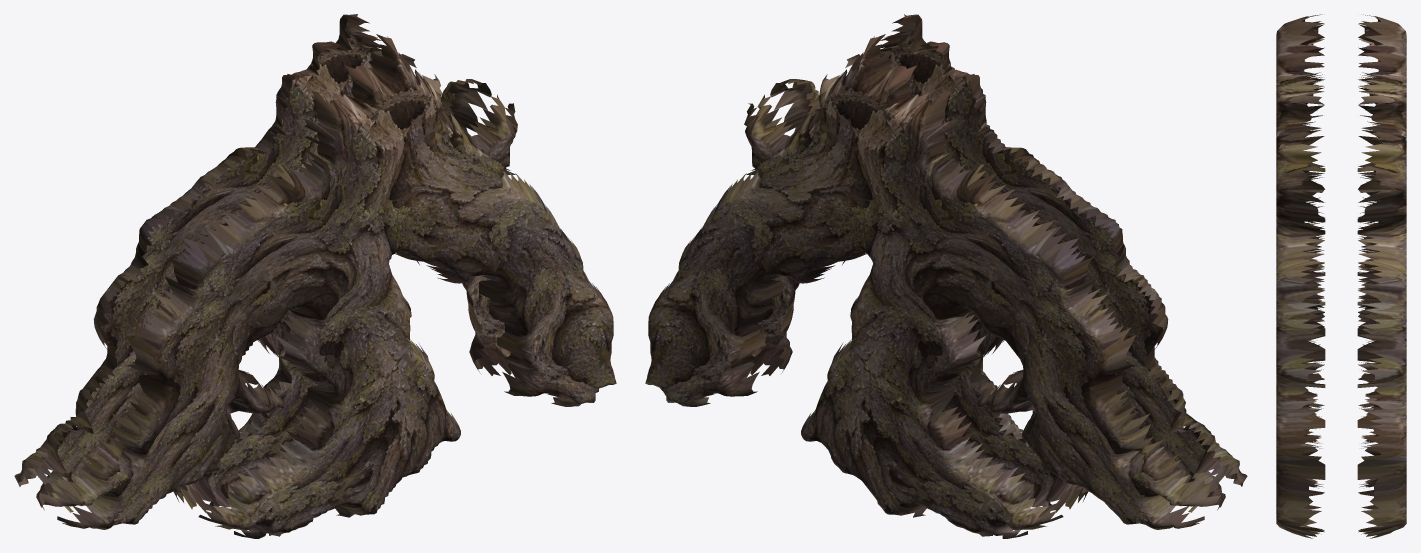
The model's file is v4-marsh-path-scatter-root-cluster.glb.
3 views of the same model, side by side, from view 1: azimuth 30°, elevation 25°; view 2: azimuth 150°, elevation 25°; view 3: azimuth 270°, elevation 25° (orthographic). The views are drawn at different scales.
Parts seen in each view (by area): view 1: v4-marsh-path-scatter-root-cluster; view 2: v4-marsh-path-scatter-root-cluster; view 3: v4-marsh-path-scatter-root-cluster.
Part boxes in pixels (box(x1,y1,x2,y2)): v4-marsh-path-scatter-root-cluster: box(14, 14, 616, 538); v4-marsh-path-scatter-root-cluster: box(645, 14, 1247, 538); v4-marsh-path-scatter-root-cluster: box(1276, 14, 1406, 538).
Size of the model in its own units: 0.6825 by 0.5413 by 0.132.
1 material, 1 textured.
